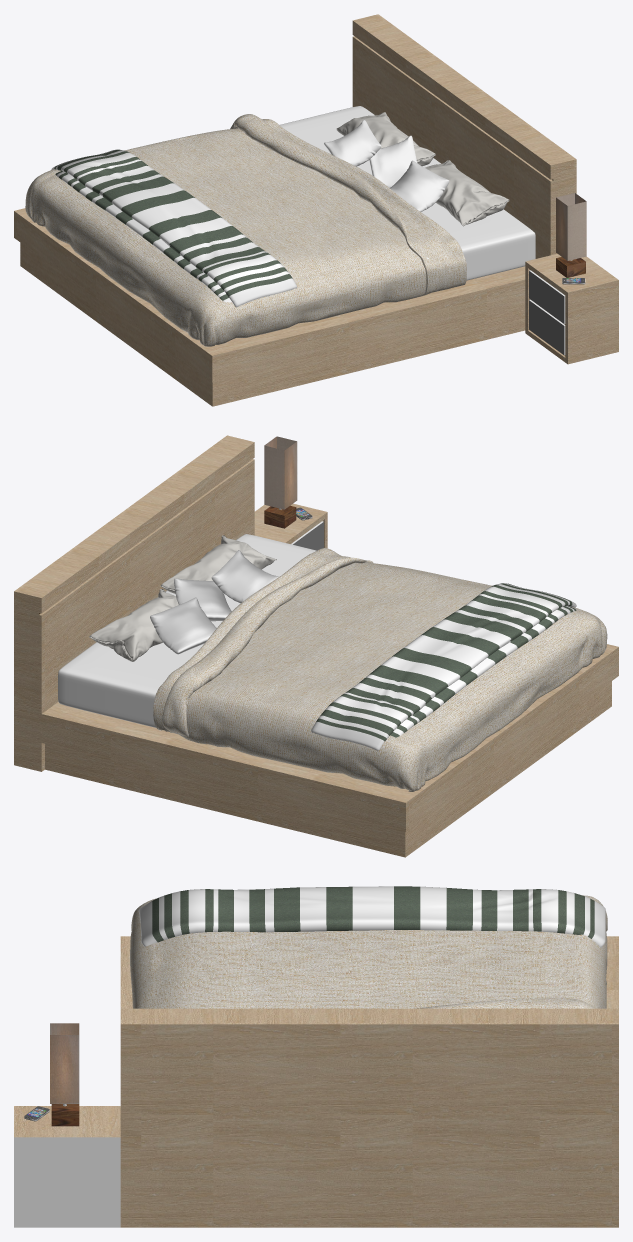
3 renders of one model, top to bottom at view 1: azimuth 30°, elevation 25°; view 2: azimuth 150°, elevation 25°; view 3: azimuth 270°, elevation 25°, orthographic. The views are drawn at different scales.
Parts seen in each view (by area): view 1: Mesh16__Wood__Floor_2_0, Group16, Mesh8_Color_000_0, Mesh8_Carpet_Plush_Forest_0, Mesh9__Color_001_4_0, Mesh2__Wood__Floor_2_0, Groupe_4_1, Mesh2_glc_0, Mesh13_Color_D10_0, Mesh15_Color_D10_0, Groupe_4_2, Mesh14_Color_D10_0 (+2 smaller); view 2: Mesh16__Wood__Floor_2_0, Group16, Mesh8_Color_000_0, Mesh8_Carpet_Plush_Forest_0, Mesh9__Color_001_4_0, Groupe_4_2, Mesh14_Color_D10_0, Groupe_4_1, Mesh13_Color_D10_0, Mesh2__Wood__Floor_2_0, Mesh15_Color_D10_0, Mesh6_M_31798c_3_0 (+1 smaller); view 3: Mesh16__Wood__Floor_2_0, Group16, Mesh8_Color_000_0, Mesh8_Carpet_Plush_Forest_0, Mesh2_built_0, Mesh2__Wood__Floor_2_0, Mesh6_M_31798c_1_0, Mesh7_M_31798c_2_0.
Boxes of the visible parts, <box> form: Mesh16__Wood__Floor_2_0: <box>14,14,576,406</box>; Group16: <box>25,114,466,346</box>; Mesh8_Color_000_0: <box>51,149,297,307</box>; Mesh8_Carpet_Plush_Forest_0: <box>54,149,292,300</box>; Mesh9__Color_001_4_0: <box>279,106,535,280</box>; Mesh2__Wood__Floor_2_0: <box>525,253,618,364</box>; Groupe_4_1: <box>425,160,509,226</box>; Mesh2_glc_0: <box>529,271,564,354</box>; Mesh13_Color_D10_0: <box>390,160,449,211</box>; Mesh15_Color_D10_0: <box>369,135,417,187</box>; Groupe_4_2: <box>336,112,435,166</box>; Mesh14_Color_D10_0: <box>323,119,381,166</box>; Mesh16__Wood__Floor_2_0: <box>14,435,618,857</box>; Group16: <box>153,548,607,791</box>; Mesh8_Color_000_0: <box>311,583,576,750</box>; Mesh8_Carpet_Plush_Forest_0: <box>316,583,576,741</box>; Mesh9__Color_001_4_0: <box>58,534,316,727</box>; Groupe_4_2: <box>89,589,178,661</box>; Mesh14_Color_D10_0: <box>150,597,216,654</box>; Groupe_4_1: <box>160,535,276,593</box>; Mesh13_Color_D10_0: <box>211,550,278,603</box>; Mesh2__Wood__Floor_2_0: <box>254,503,327,548</box>; Mesh15_Color_D10_0: <box>174,578,231,621</box>; Mesh6_M_31798c_3_0: <box>264,445,284,509</box>; Mesh16__Wood__Floor_2_0: <box>120,936,618,1227</box>; Group16: <box>130,895,607,1008</box>; Mesh8_Color_000_0: <box>138,886,605,947</box>; Mesh8_Carpet_Plush_Forest_0: <box>152,886,594,942</box>; Mesh2_built_0: <box>14,1137,120,1227</box>; Mesh2__Wood__Floor_2_0: <box>14,1106,120,1137</box>; Mesh6_M_31798c_1_0: <box>50,1035,79,1103</box>; Mesh7_M_31798c_2_0: <box>51,1104,79,1126</box>.
Size of the model in its own units: 2123 by 900 by 2428.
Materials: 30 (13 with a texture image).
